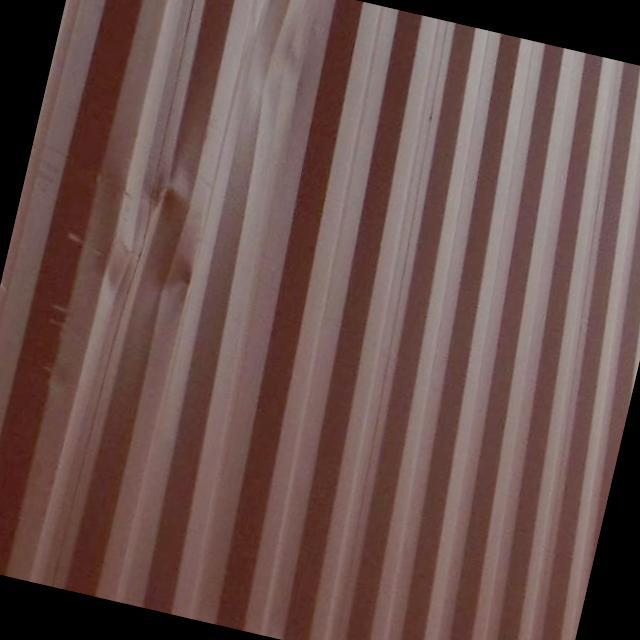dent: (76, 136, 227, 363)
